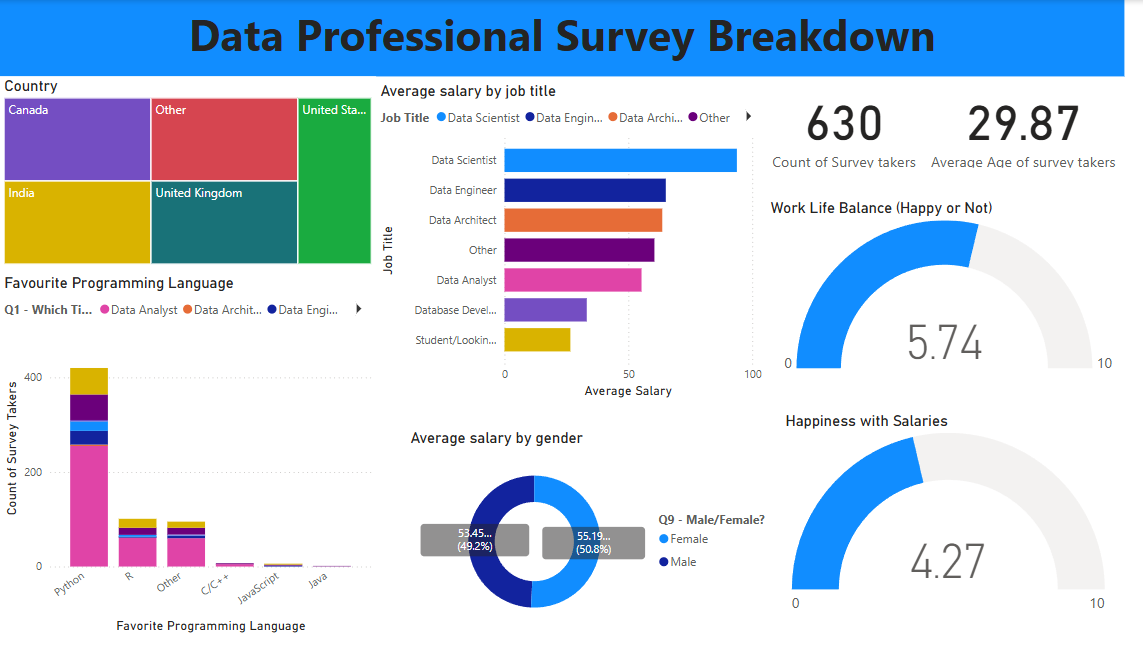

The dashboard page shown, as its layout file describes it:
{"tool":"powerbi","page":{"name":"Page 1","canvas":[1280,720],"ordinal":0},"visuals":[{"type":"textbox","box":[9.7,0,1248.4,84.6],"z":0},{"type":"card","fields":{"Values":["Count(Data Professional Survey.Unique ID)"]},"box":[860,90.2,173.4,101.3],"z":1000},{"type":"card","fields":{"Values":["Avg(Data Professional Survey.Q10 - Current Age)"]},"box":[1033.4,90.2,224.7,101.3],"z":2000},{"type":"barChart","title":"Average salary by job title","fields":{"Category":["Data Professional Survey.Q1 - Which Title Best Fits your Current Role?.1"],"Y":["Avg(Data Professional Survey.Average salary)"],"Series":["Data Professional Survey.Q1 - Which Title Best Fits your Current Role?.1"]},"box":[427.2,90.2,432.8,356.5],"z":3000},{"type":"columnChart","title":"Favourite Programming Language","fields":{"Category":["Data Professional Survey.Q5 - Favorite Programming Language.1"],"Y":["CountNonNull(Data Professional Survey.Unique ID)"],"Series":["Data Professional Survey.Q1 - Which Title Best Fits your Current Role?.1"]},"box":[9.7,303.8,417.5,403.6],"z":4000},{"type":"treemap","title":"Country","fields":{"Group":["Data Professional Survey.Q11 - Which Country do you live in?.1"],"Values":["Count(Data Professional Survey.Q11 - Which Country do you live in?.1)"]},"box":[9.7,84.6,417.5,213.6],"z":4001},{"type":"gauge","title":"Happiness with Salaries","fields":{"Y":["Avg(Data Professional Survey.Q6 - How Happy are you in your Current Position with the following? (Salary))"],"MinValue":["Min(Data Professional Survey.Q6 - How Happy are you in your Current Position with the following? (Salary))"],"MaxValue":["Max(Data Professional Survey.Q6 - How Happy are you in your Current Position with the following? (Salary))"]},"box":[876.6,456.4,371.7,234.4],"z":4002},{"type":"gauge","title":"Work Life Balance (Happy or Not)","fields":{"Y":["Avg(Data Professional Survey.Q6 - How Happy are you in your Current Position with the following? (Work/Life Balance))"],"MinValue":["Min(Data Professional Survey.Q6 - How Happy are you in your Current Position with the following? (Work/Life Balance))1"],"MaxValue":["Max(Data Professional Survey.Q6 - How Happy are you in your Current Position with the following? (Work/Life Balance))2"]},"box":[860,220.5,405,198.4],"z":4003},{"type":"donutChart","title":"Average salary by gender","fields":{"Category":["Data Professional Survey.Q9 - Male/Female?"],"Y":["Avg(Data Professional Survey.Average salary)"]},"box":[460.5,475.8,416.1,231.6],"z":4004}]}

Visuals, with their boxes in screenshot pixels (x1, y1, x2, y2), scaled from the page's 1280x720 canvas onto the 1143x649 screenshot:
textbox: BBox(9, 0, 1123, 76)
card - Count(Data Professional Survey.Unique ID): BBox(768, 81, 923, 173)
card - Avg(Data Professional Survey.Q10 - Current Age): BBox(923, 81, 1123, 173)
"Average salary by job title" barChart: BBox(381, 81, 768, 403)
"Favourite Programming Language" columnChart: BBox(9, 274, 381, 638)
"Country" treemap: BBox(9, 76, 381, 269)
"Happiness with Salaries" gauge: BBox(783, 411, 1115, 623)
"Work Life Balance (Happy or Not)" gauge: BBox(768, 199, 1130, 378)
"Average salary by gender" donutChart: BBox(411, 429, 783, 638)
